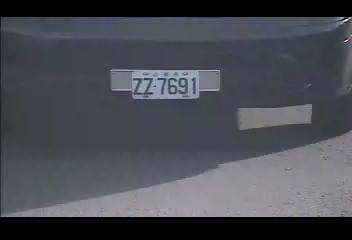plate: (129, 67, 200, 101)
